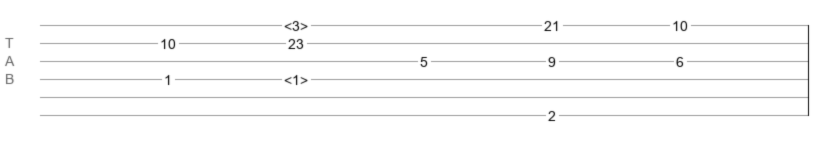1: (164, 72, 172, 82)
10: (160, 36, 176, 46), (672, 18, 688, 28)
2: (548, 108, 556, 118)
21: (544, 18, 560, 28)
23: (288, 36, 304, 46)
5: (420, 54, 428, 64)
6: (676, 54, 684, 64)
9: (548, 54, 556, 64)
harmonic: (284, 18, 308, 28), (284, 72, 308, 82)
